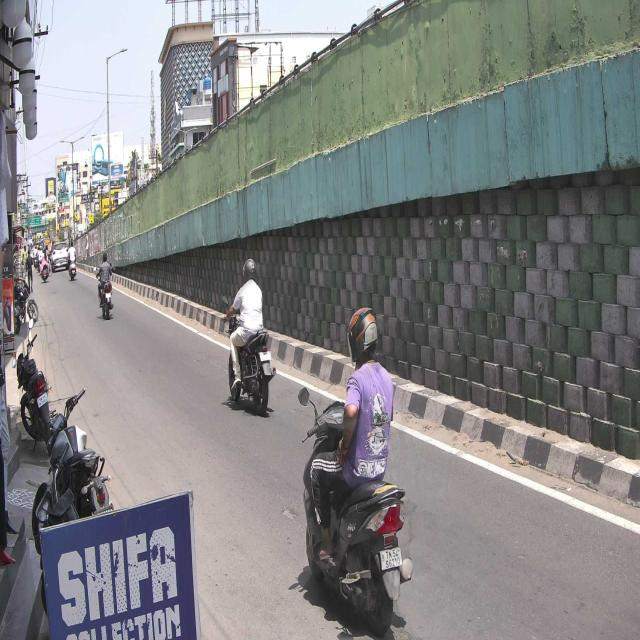single_rider: (298, 308, 413, 633), (220, 257, 276, 413)
